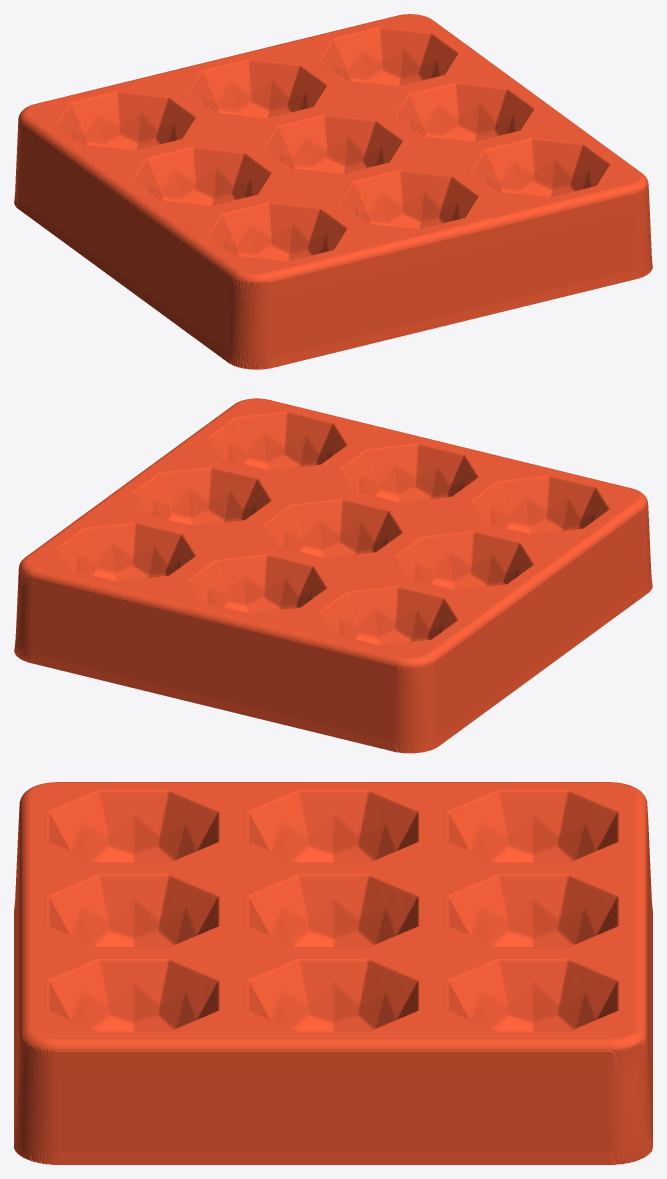
File: mold.glb
3 renders of one model, top to bottom at view 1: azimuth 30°, elevation 25°; view 2: azimuth 150°, elevation 25°; view 3: azimuth 270°, elevation 25°, orthographic. The views are drawn at different scales.
Visible parts, largest first — view 1: geometry_0; view 2: geometry_0; view 3: geometry_0.
Part boxes in pixels (x1,y1,x2,y2): geometry_0: (14, 14, 652, 369); geometry_0: (14, 398, 652, 753); geometry_0: (14, 782, 652, 1164).
Size of the model in its own units: 0.1324 by 0.0272 by 0.1324.
